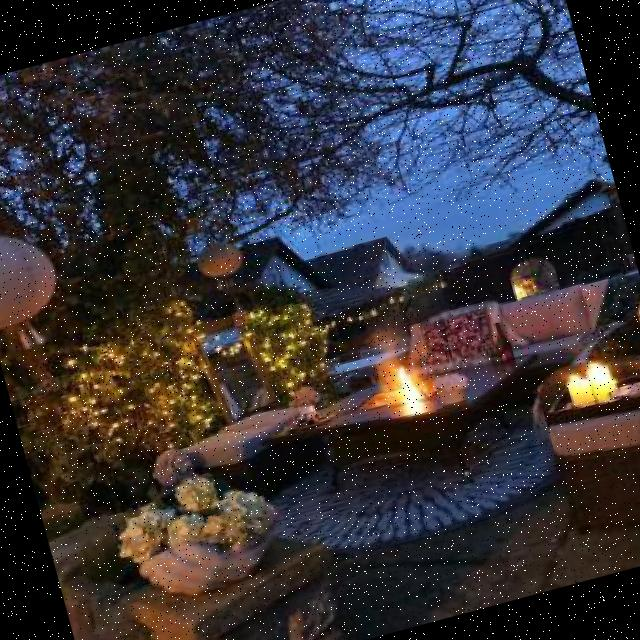fire: (374, 342, 436, 422), (562, 352, 620, 394)
